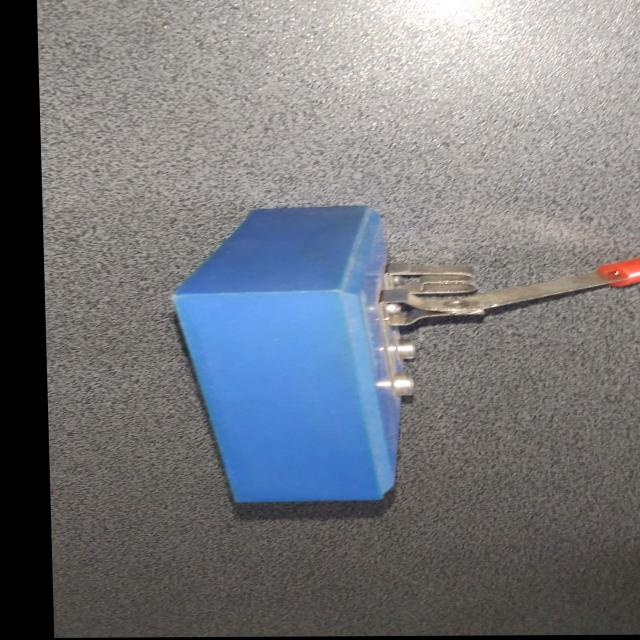L Switch: (119, 189, 640, 520)
